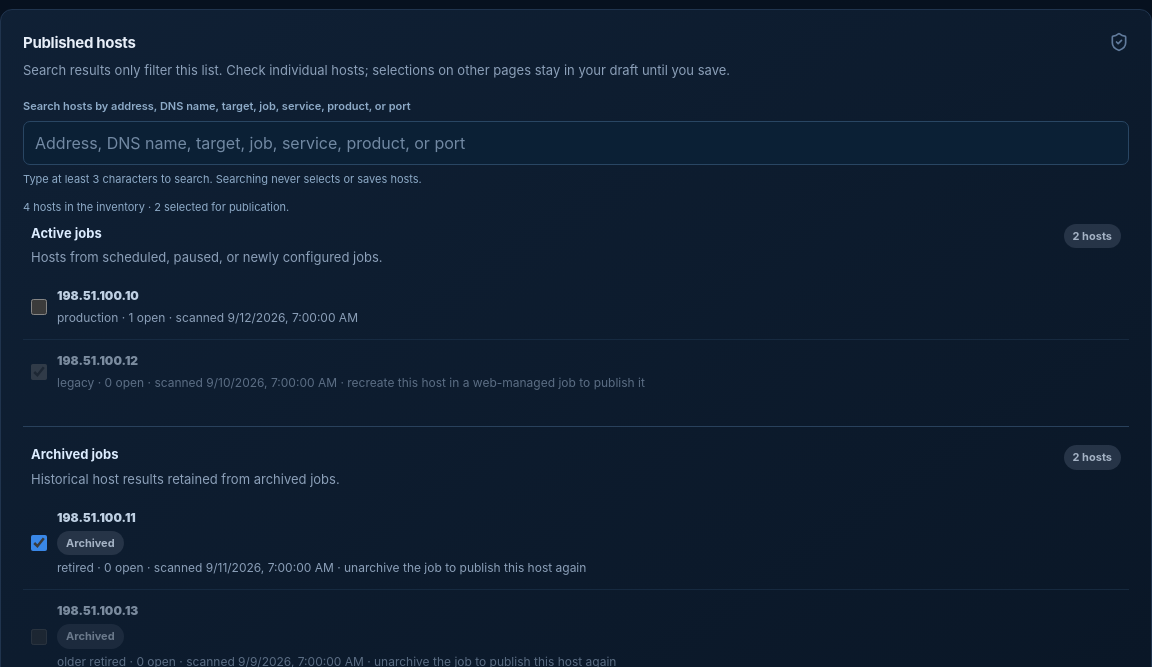
public dashboard pages › separates archived and legacy hosts and saves checkbox changes
The width and height of the screenshot is (1152, 667).
(page scrolled)
Check: the 3rd checkbox is enabled, box [31, 535, 47, 551]
Check: the 3rd checkbox is checked, box [31, 535, 47, 551]
Click the 1st checkbox.
click(39, 307)  # box [31, 299, 47, 315]
(page scrolled)
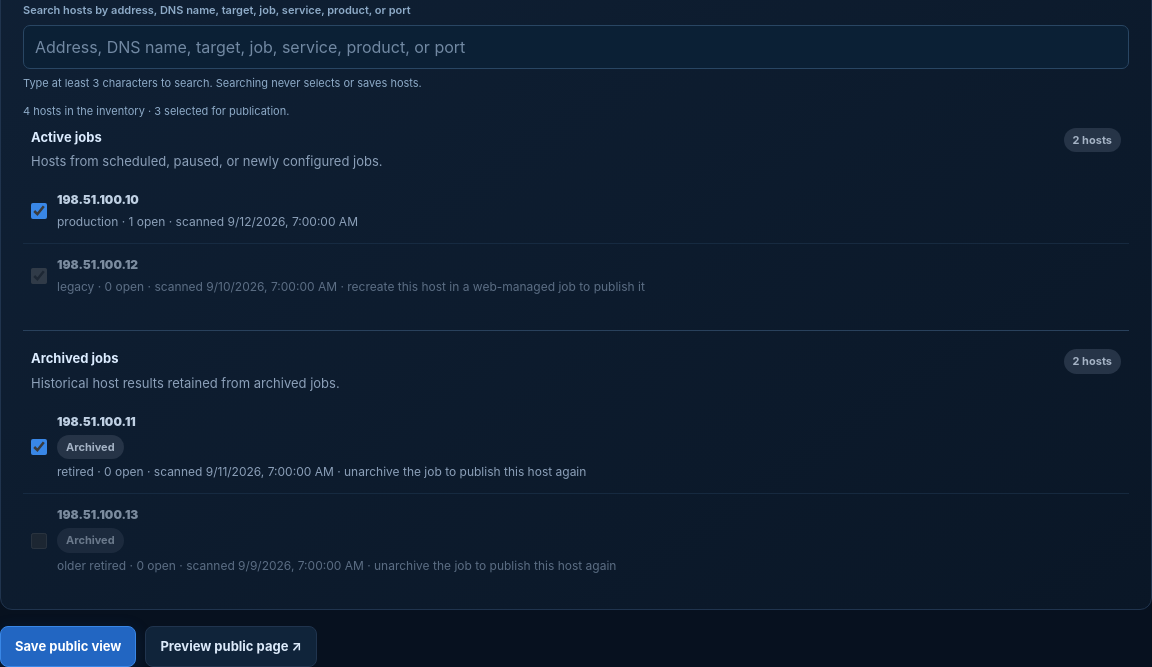
Check: the 1st checkbox is checked, box [31, 203, 47, 219]
Click the button "Save public view".
click(68, 647)  # box [0, 626, 136, 666]
(page scrolled)
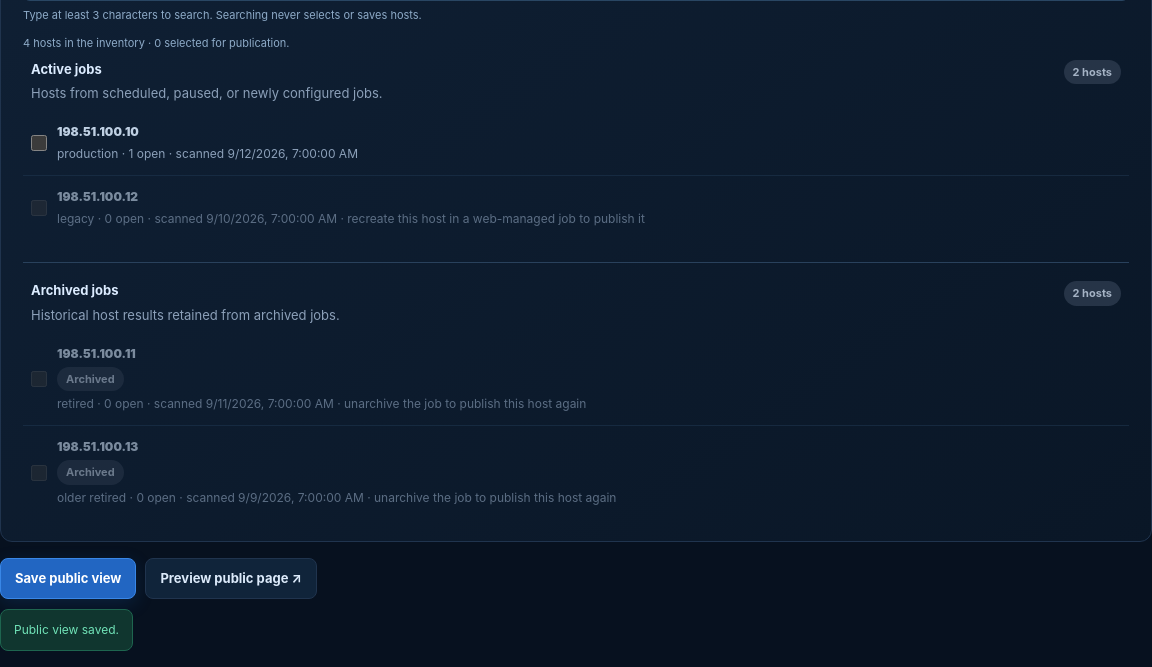
Check: the text "Public view saved." is shown, box [0, 609, 133, 651]
